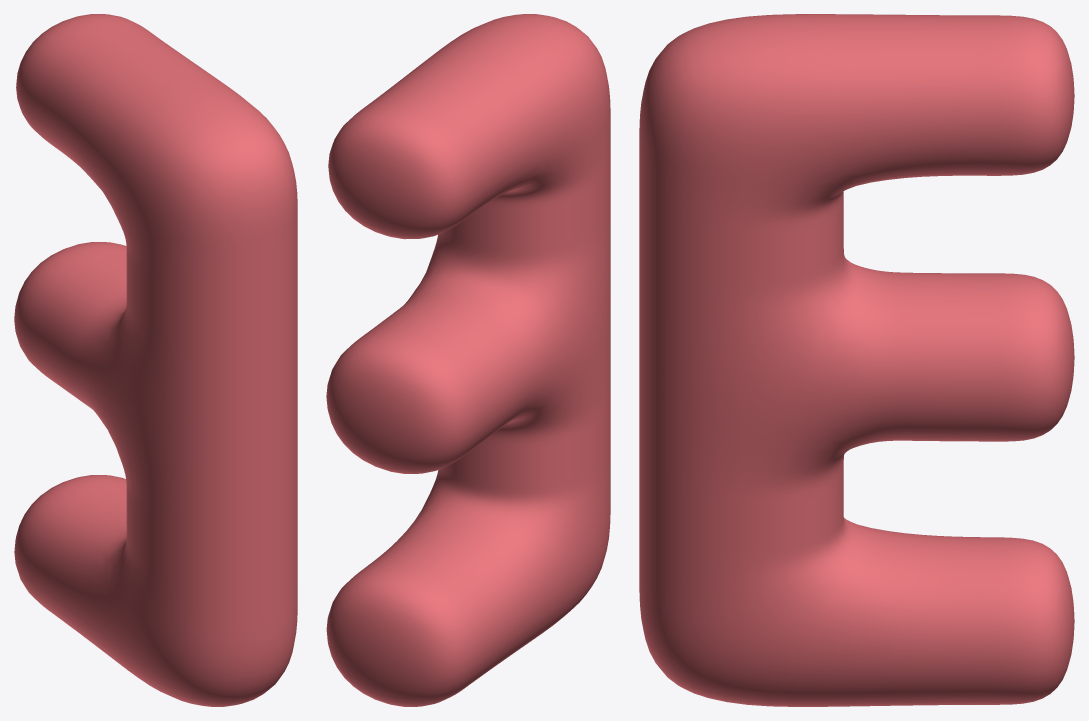
Rendered from LetterE.glb.
3 views of the same model, side by side, from view 1: azimuth 30°, elevation 25°; view 2: azimuth 150°, elevation 25°; view 3: azimuth 270°, elevation 25° (orthographic). The views are drawn at different scales.
Parts seen in each view (by area): view 1: E; view 2: E; view 3: E.
Part boxes in pixels (bbox=[...]): E: bbox=[14, 14, 297, 706]; E: bbox=[326, 14, 610, 706]; E: bbox=[639, 14, 1074, 706].
Bounding box in the file's own units: 0.8103 × 3.08 × 1.81.
